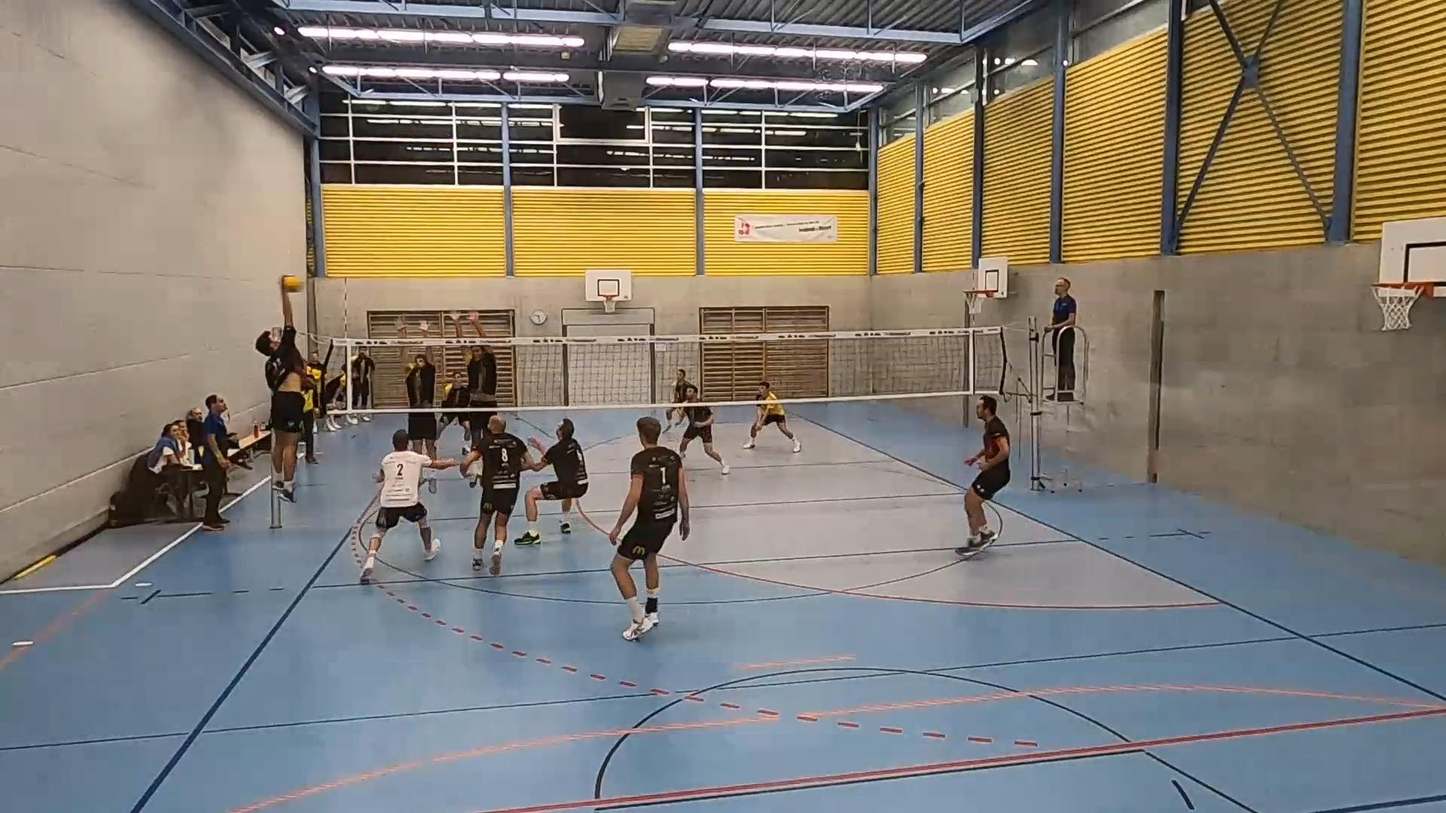Attack: (255, 273, 312, 509)
Block: (387, 317, 448, 479), (444, 301, 499, 479)
Player: (609, 416, 689, 641), (360, 430, 456, 583), (462, 415, 531, 575), (514, 418, 587, 545), (956, 395, 1009, 556), (679, 385, 729, 474), (743, 381, 801, 452), (664, 367, 692, 432), (440, 370, 467, 409)
ball: (284, 275, 306, 290)
